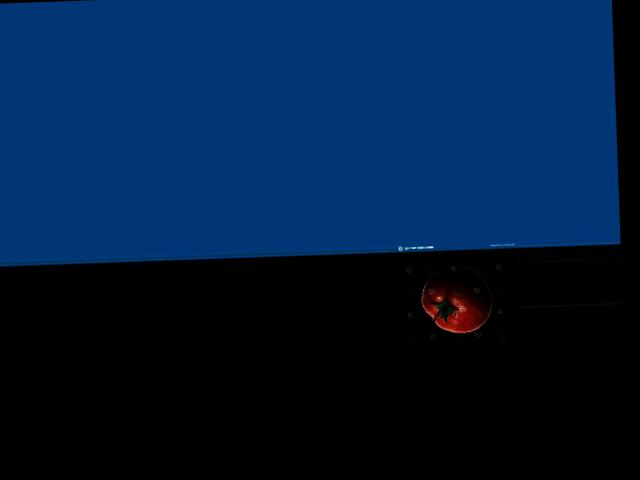tomato: (420, 264, 493, 334)
